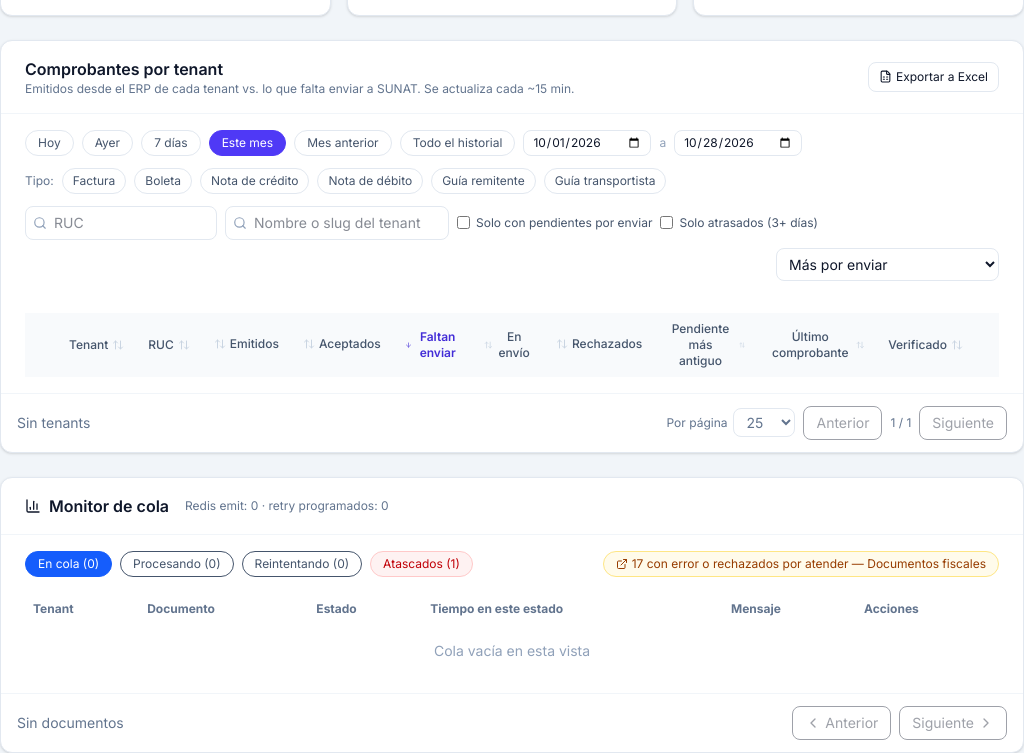
Scenario: OperacionesFiscalesPage — Fase 4 › documento histórico sin error_type se renderiza sin crash (fallback genérico)
(page scrolled)
Expected: the text "Monitor de cola" is shown, top-left (49, 494), bottom-right (169, 518)
Click the button "Atascados (1)": (422, 564) top-left (370, 550), bottom-right (473, 576)
(page scrolled)
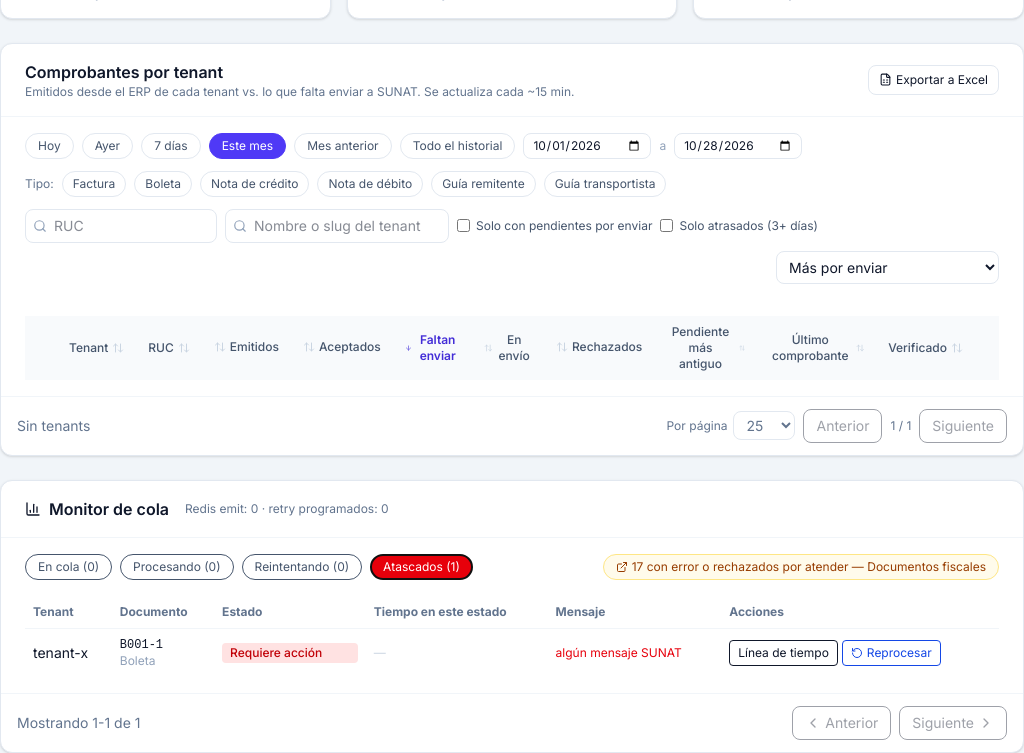
Expected: the text "tenant-x" is shown, top-left (25, 628), bottom-right (112, 676)
Expected: the text "Requiere acción" is shown, top-left (222, 642), bottom-right (358, 662)
